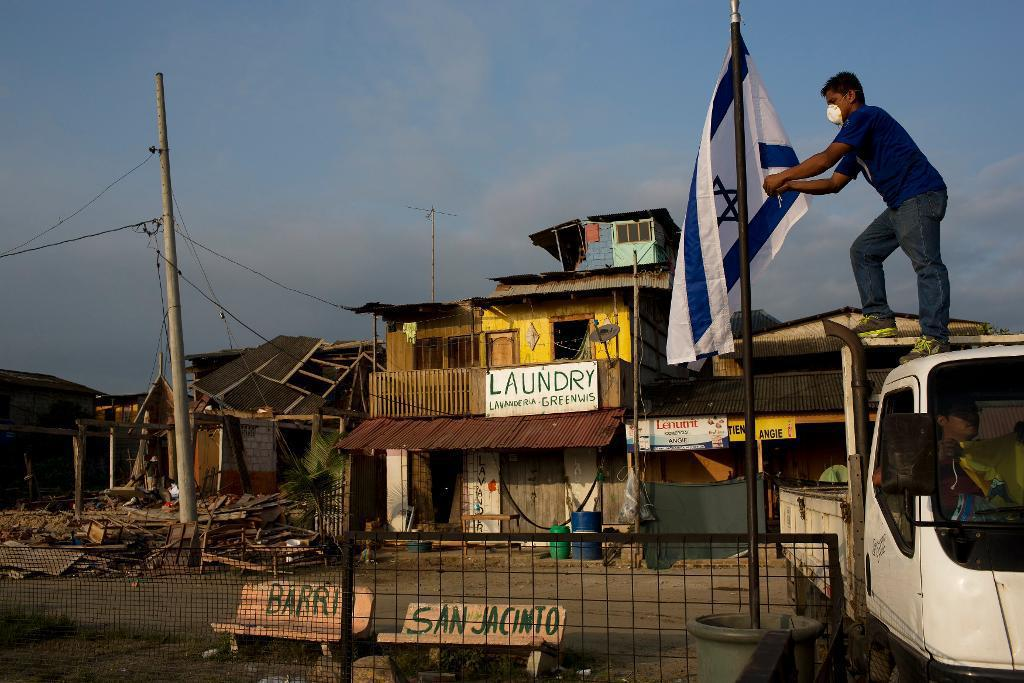destroyed: (68, 310, 396, 550)
major: (338, 195, 694, 570)
